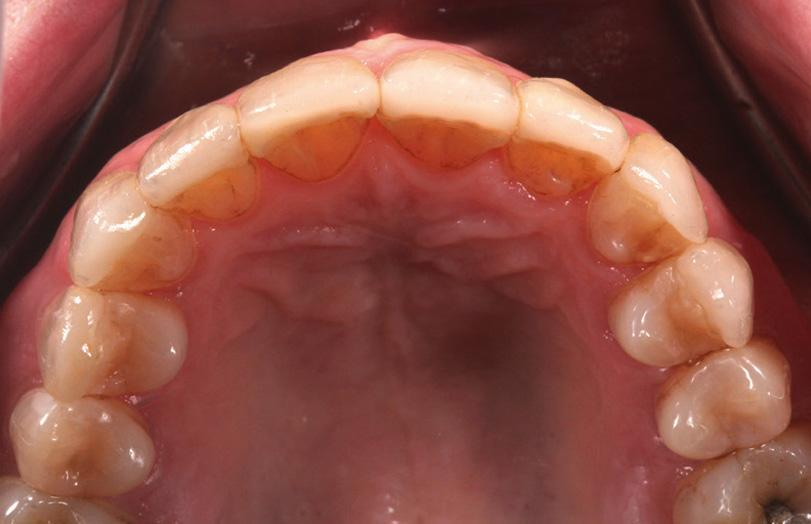UL1BC_healthy: (605, 233, 757, 369)
UL1M_decay: (673, 429, 811, 522)
UL2BC_healthy: (656, 326, 800, 460)
ULCI_healthy: (381, 57, 521, 171)
ULC_healthy: (591, 134, 703, 266)
ULLI_healthy: (511, 80, 628, 194)
UR1BC_healthy: (32, 284, 189, 404)
UR2BC_healthy: (9, 380, 153, 501)
URCI_healthy: (241, 64, 380, 183)
URC_healthy: (71, 166, 200, 292)
URLI_healthy: (139, 102, 261, 224)
